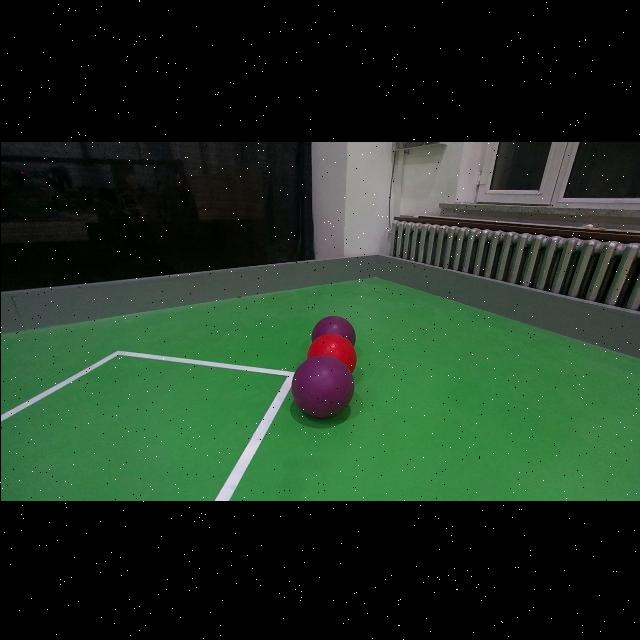P: (291, 354, 354, 416), (310, 312, 356, 348)
R: (306, 332, 356, 372)
